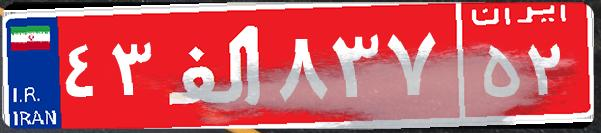2: (525, 38, 570, 115)
3: (330, 28, 385, 110), (110, 28, 158, 105)
4: (57, 26, 110, 107)
5: (475, 38, 525, 113)
7: (385, 28, 445, 110)
8: (273, 28, 330, 110)
الف: (158, 15, 273, 115)
